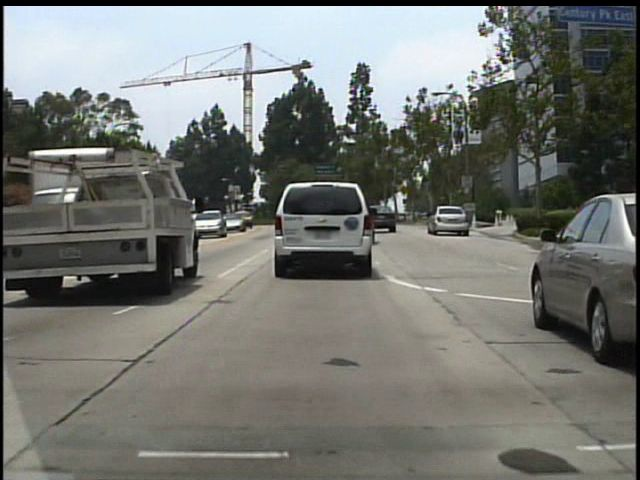person: (409, 197, 419, 226)
